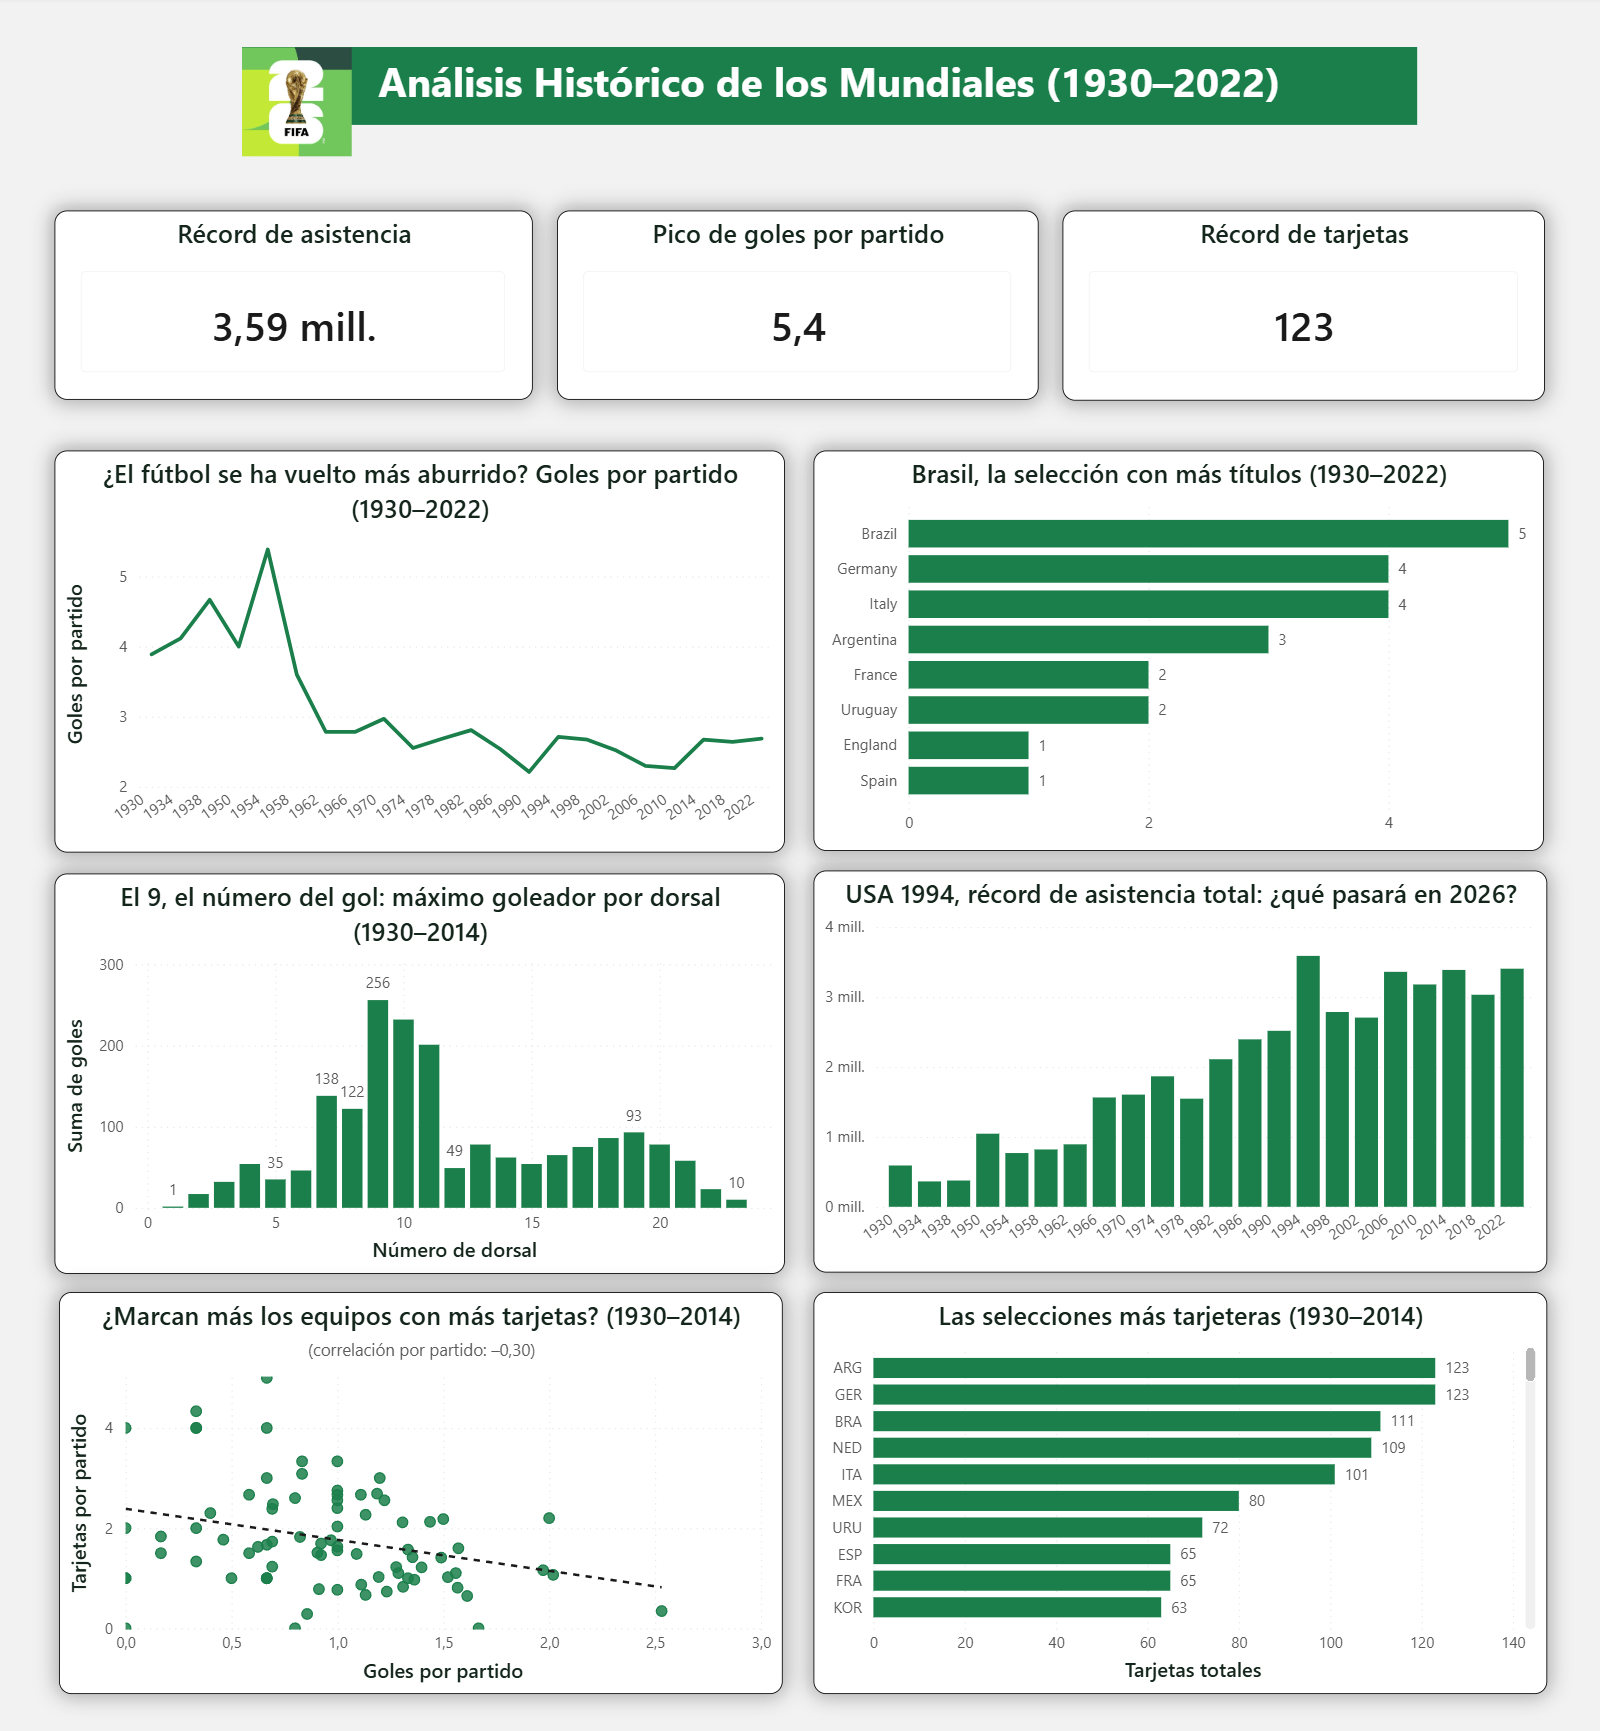

The dashboard page shown, as its layout file describes it:
{"tool":"powerbi","page":{"name":"Mundiales","canvas":[1280,1400],"ordinal":0},"visuals":[{"type":"lineChart","title":"¿El fútbol se ha vuelto más aburrido? Goles por partido (1930–2022)","fields":{"Category":["worldcups_clean.Year"],"Y":["Sum(worldcups_clean.goals_per_match)"]},"box":[44.2,361.7,581.4,320],"z":0},{"type":"clusteredColumnChart","title":"USA 1994, récord de asistencia total: ¿qué pasará en 2026?","fields":{"Category":["worldcups_clean.Year"],"Y":["Sum(worldcups_clean.Attendance)"]},"box":[648,696,584,320],"z":1000},{"type":"clusteredBarChart","title":"Brasil, la selección con más títulos (1930–2022)","fields":{"Category":["worldcups_clean.Winner"],"Y":["CountNonNull(worldcups_clean.Winner)"]},"box":[648.3,361.7,581.4,318.8],"z":2000},{"type":"clusteredColumnChart","title":"El 9, el número del gol: máximo goleador por dorsal (1930–2014)","fields":{"Category":["shirt_stats.Shirt Number"],"Y":["Sum(shirt_stats.goals)"]},"box":[44.2,698.4,581.4,318.8],"z":3000},{"type":"barChart","title":"Las selecciones más tarjeteras (1930–2014)","fields":{"Category":["team_stats.Team Initials"],"Y":["Sum(team_stats.total_cards)"]},"box":[648,1032,584,320],"z":4000},{"type":"scatterChart","title":"¿Marcan más los equipos con más tarjetas?  (1930–2014)","fields":{"X":["Sum(team_stats.goals_per_match)"],"Y":["Sum(team_stats.card_per_match)"],"Category":["team_stats.Team Initials"]},"box":[48,1032,576,320],"z":5000},{"type":"textbox","box":[194,40.3,935,62],"z":6000},{"type":"cardVisual","title":"Récord de asistencia","fields":{"Data":["Max(worldcups_clean.Attendance)"]},"box":[44.2,171.1,380.8,150.4],"z":7000},{"type":"cardVisual","title":"Pico de goles por partido","fields":{"Data":["Max(worldcups_clean.goals_per_match)"]},"box":[444.1,171.1,383.2,150.4],"z":8000},{"type":"cardVisual","title":"Récord de tarjetas","fields":{"Data":["Max(team_stats.total_cards)"]},"box":[846,171,384,151],"z":9000},{"type":"image","box":[194,26.3,87,116],"z":10000}]}

Visuals, with their boxes in screenshot pixels (x1, y1, x2, y2), scaled from the page's 1280x1400 canvas onto the 1600x1731 screenshot:
"¿El fútbol se ha vuelto más aburrido? Goles por partido (1930–2022)" lineChart: {"x1": 55, "y1": 447, "x2": 782, "y2": 843}
"USA 1994, récord de asistencia total: ¿qué pasará en 2026?" clusteredColumnChart: {"x1": 810, "y1": 861, "x2": 1540, "y2": 1256}
"Brasil, la selección con más títulos (1930–2022)" clusteredBarChart: {"x1": 810, "y1": 447, "x2": 1537, "y2": 841}
"El 9, el número del gol: máximo goleador por dorsal (1930–2014)" clusteredColumnChart: {"x1": 55, "y1": 864, "x2": 782, "y2": 1258}
"Las selecciones más tarjeteras (1930–2014)" barChart: {"x1": 810, "y1": 1276, "x2": 1540, "y2": 1672}
"¿Marcan más los equipos con más tarjetas?  (1930–2014)" scatterChart: {"x1": 60, "y1": 1276, "x2": 780, "y2": 1672}
textbox: {"x1": 242, "y1": 50, "x2": 1411, "y2": 126}
"Récord de asistencia" cardVisual: {"x1": 55, "y1": 212, "x2": 531, "y2": 398}
"Pico de goles por partido" cardVisual: {"x1": 555, "y1": 212, "x2": 1034, "y2": 398}
"Récord de tarjetas" cardVisual: {"x1": 1058, "y1": 211, "x2": 1538, "y2": 398}
image: {"x1": 242, "y1": 33, "x2": 351, "y2": 176}
